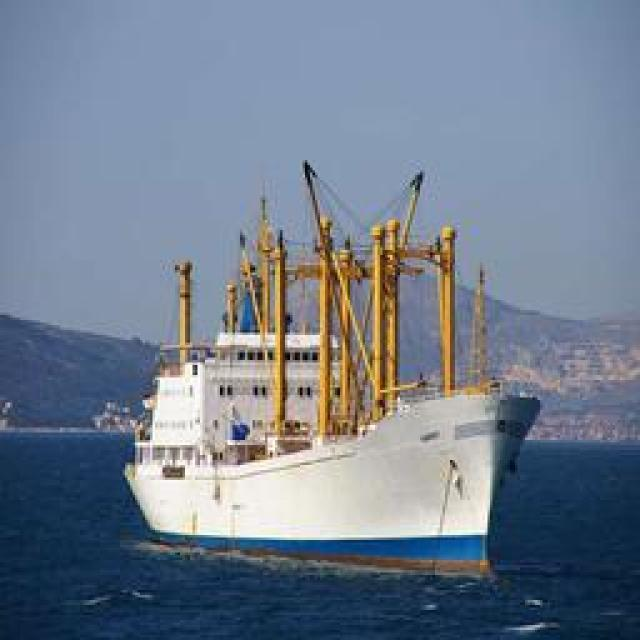ship2: (123, 162, 543, 581)
